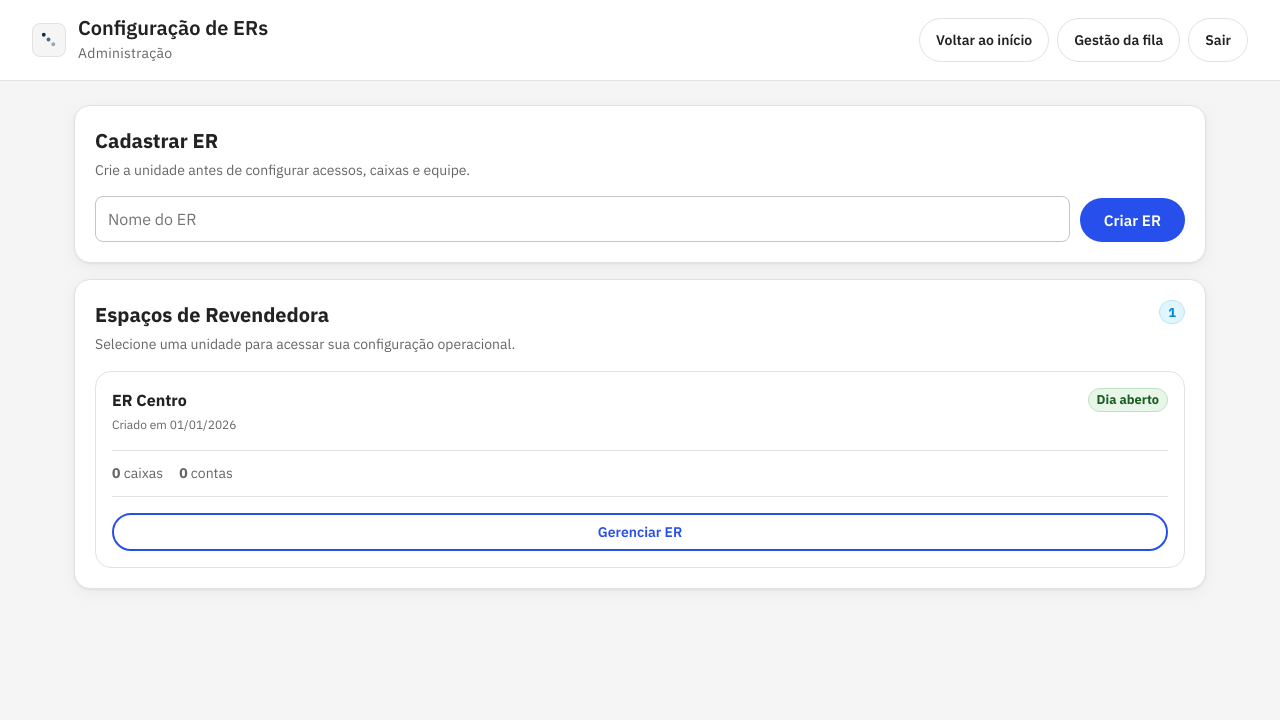
Test: AdminPage — ER management › shows empty notes when the ER has no counters or operators
The image size is (1280, 720).
Click the button "Gerenciar ER": [640, 532] box [112, 513, 1168, 551]
(page scrolled)
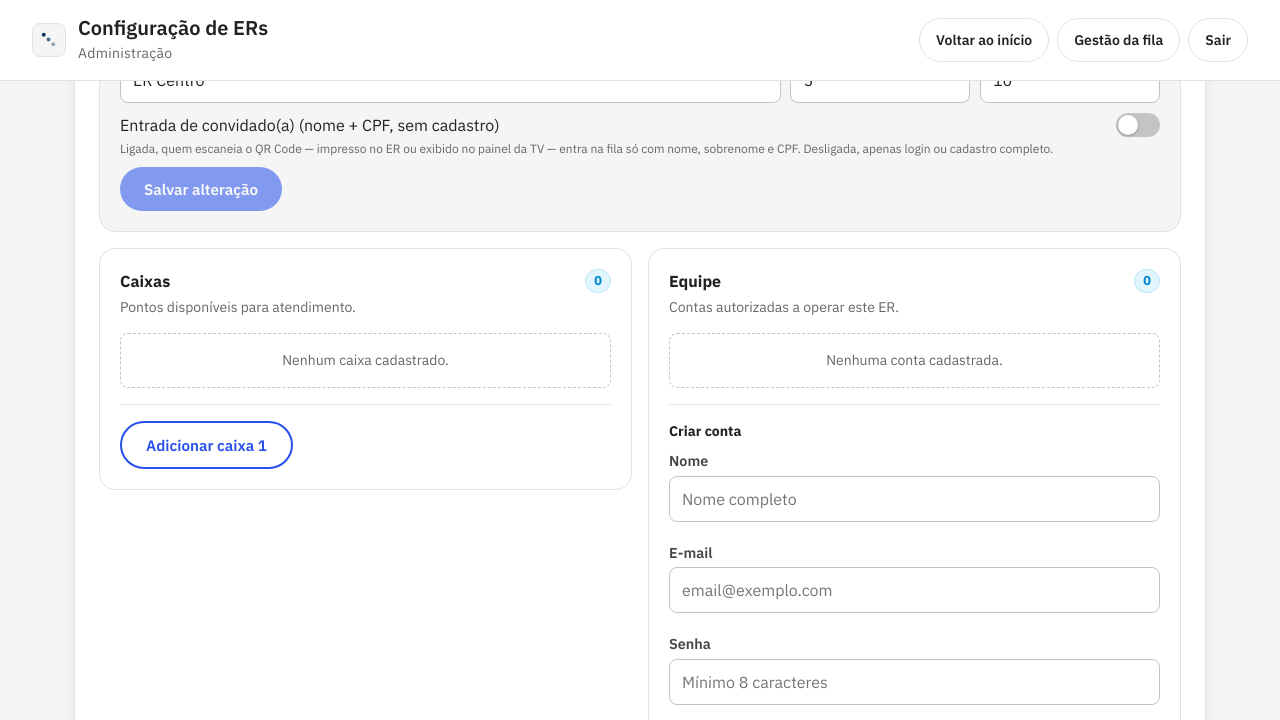
Check: the text "Nenhum caixa cadastrado." is shown, box [120, 333, 611, 388]
Check: the text "Nenhuma conta cadastrada." is shown, box [669, 333, 1160, 388]
